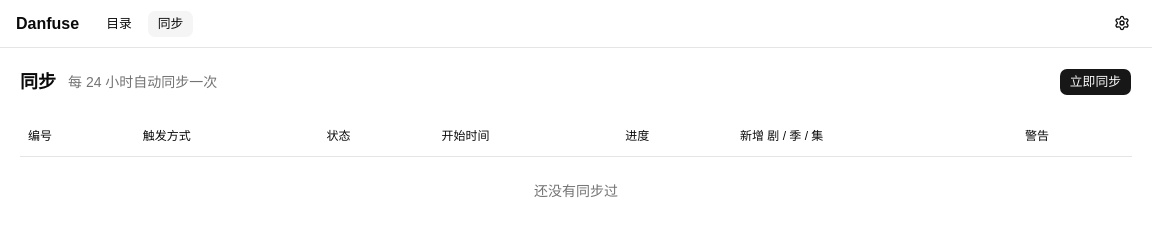
标题行与立即同步 › 其他失败显示在按钮下方，可以关闭
Expected: the table is shown, [20, 116, 1132, 224]
What coordinates should you click on to do the following:
click the button "立即同步"
I would click on:
 (1095, 82)
Its box is [1059, 68, 1132, 96].
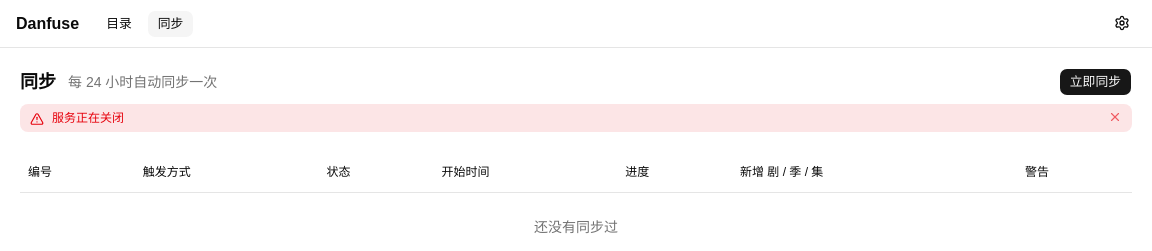
Expected: the message reads "服务正在关闭", [52, 111, 124, 125]
What coordinates should you click on to do the following:
click the button named "关闭"
I would click on:
 (1115, 117)
Its box is [1108, 110, 1122, 124].
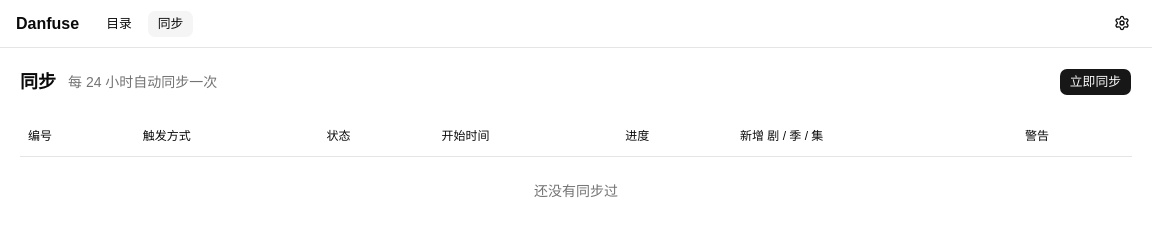
Expected: the message "服务正在关闭" is gone
